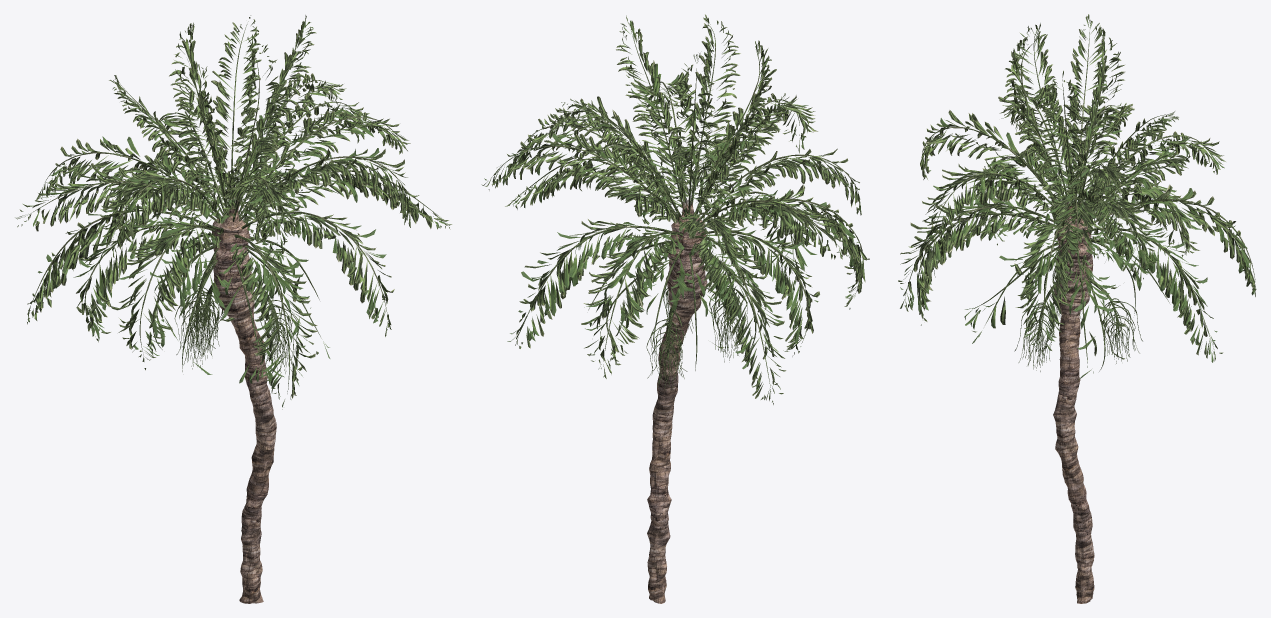
File: palma_hi.glb
3 views of the same model, side by side, from view 1: azimuth 30°, elevation 25°; view 2: azimuth 150°, elevation 25°; view 3: azimuth 270°, elevation 25° (orthographic). The views are drawn at different scales.
Parts seen in each view (by area): view 1: leaf, frond, bark; view 2: leaf, frond, bark; view 3: leaf, frond, bark.
Boxes of the visible parts, <box> form: leaf: <box>15,15,452,399</box>; frond: <box>28,21,447,409</box>; bark: <box>212,201,276,603</box>; leaf: <box>481,14,869,404</box>; frond: <box>484,15,860,402</box>; bark: <box>647,202,707,603</box>; leaf: <box>898,14,1256,371</box>; frond: <box>900,32,1254,379</box>; bark: <box>1053,202,1094,603</box>.
Size of the model in its own units: 0.6979 by 1 by 0.5862.
Materials: 4 (4 with a texture image).
